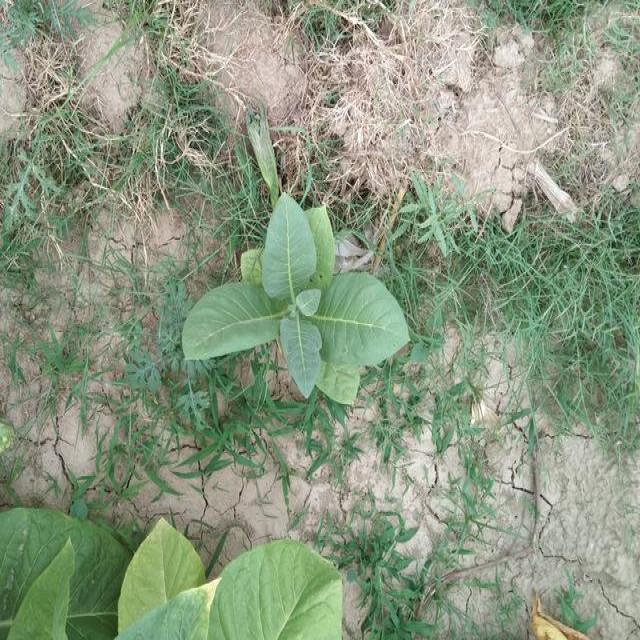crop: (176, 180, 420, 408)
